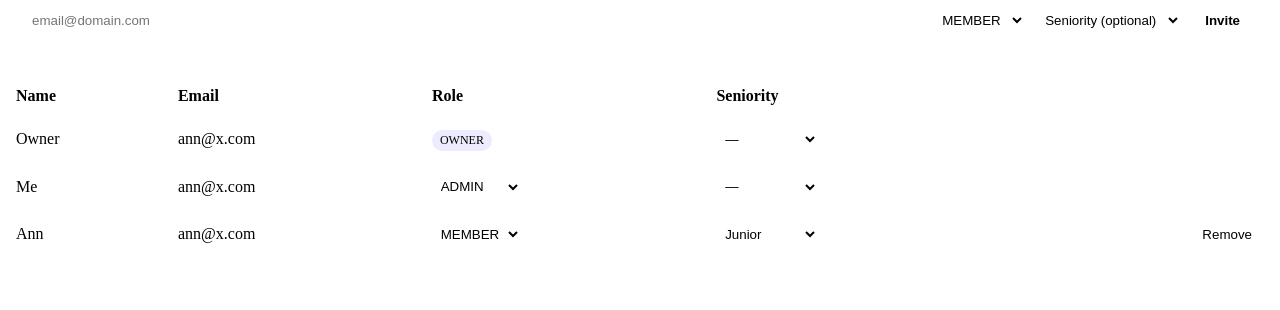
Test case: MembersPanel › surfaces an error when removing a member fails
Click the button "Remove" at coordinates (1227, 234), box [1190,222,1264,246]
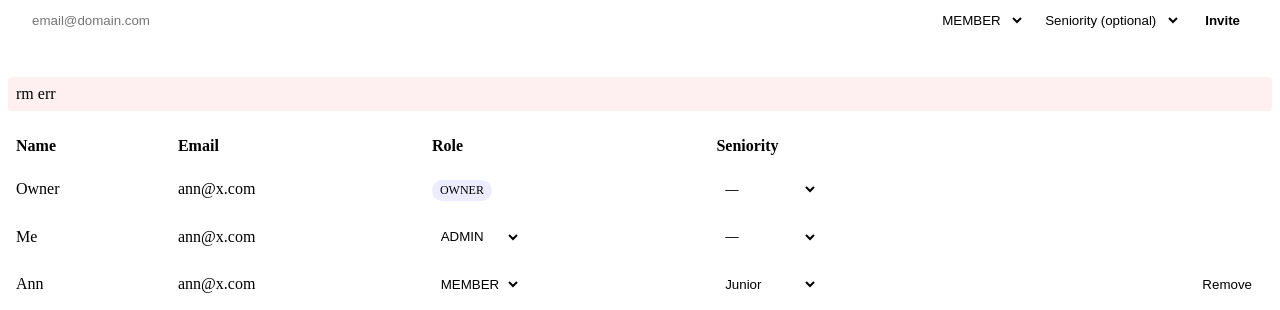
Expected: the text "rm err" is shown, [8,77,1272,111]
